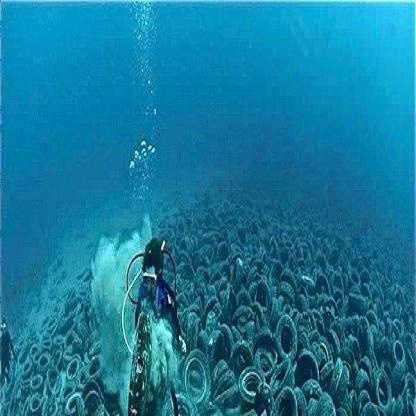tire: (185, 215, 413, 416), (18, 314, 107, 414)
